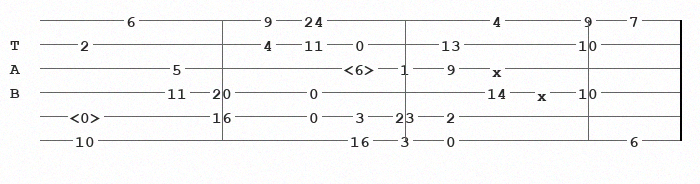0: (309, 85, 323, 99), (309, 109, 323, 123), (355, 37, 369, 51), (446, 133, 460, 147)
1: (400, 61, 414, 75)
10: (75, 133, 99, 147), (578, 85, 602, 99), (578, 37, 602, 51)
11: (167, 85, 191, 99), (304, 37, 328, 51)
13: (441, 37, 465, 51)
14: (487, 85, 511, 99)
16: (212, 109, 236, 123), (350, 133, 374, 147)
2: (80, 37, 94, 51), (446, 109, 460, 123)
20: (212, 85, 236, 99)
23: (395, 109, 419, 123)
24: (304, 13, 328, 27)
3: (355, 109, 369, 123), (400, 133, 414, 147)
4: (263, 37, 277, 51), (492, 13, 506, 27)
5: (172, 61, 186, 75)
6: (126, 13, 140, 27), (629, 133, 643, 147)
7: (629, 13, 643, 27)
9: (263, 13, 277, 27), (446, 61, 460, 75), (583, 13, 597, 27)
harmonic: (70, 109, 105, 123), (344, 61, 379, 75)
x: (492, 63, 506, 74), (537, 87, 551, 98)
